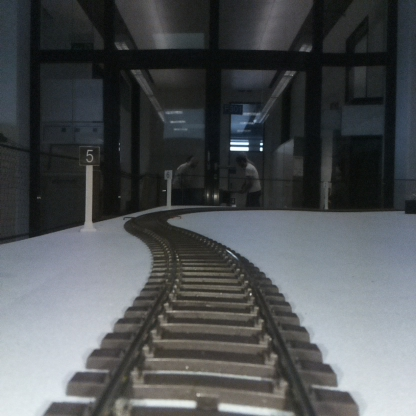black-info-5: (80, 146, 100, 230)
white-info-6: (165, 169, 171, 210)
